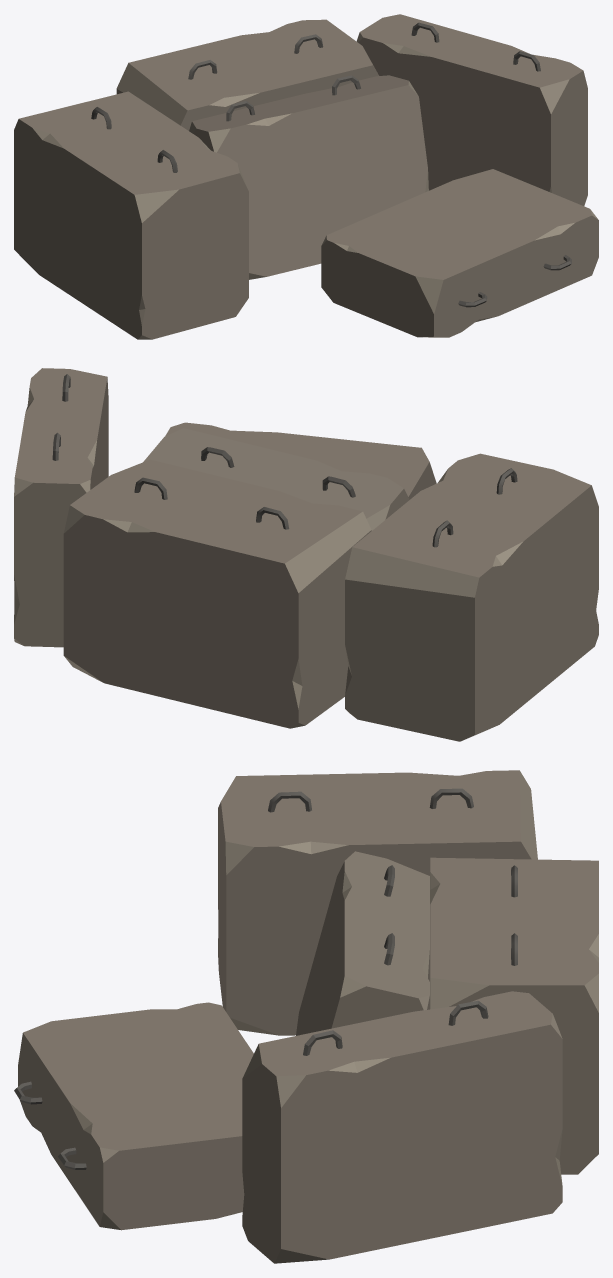
File: SM_Prop_Concrete_Slab_Pile_01.fbx
3 views of the same model, one above another, from view 1: azimuth 30°, elevation 25°; view 2: azimuth 150°, elevation 25°; view 3: azimuth 270°, elevation 25° (orthographic). The views are drawn at different scales.
Visible parts, largest first — view 1: SM_Prop_Concrete_Slab_Pile_01; view 2: SM_Prop_Concrete_Slab_Pile_01; view 3: SM_Prop_Concrete_Slab_Pile_01.
Part boxes in pixels (x1,y1,x2,y2): SM_Prop_Concrete_Slab_Pile_01: [14, 14, 598, 339]; SM_Prop_Concrete_Slab_Pile_01: [14, 368, 598, 741]; SM_Prop_Concrete_Slab_Pile_01: [14, 770, 598, 1263].
Size of the model in its own units: 351 by 115 by 280.
